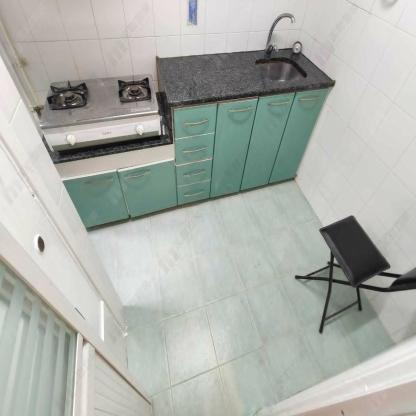Cupboard: (67, 87, 330, 228)
Faucet: (263, 0, 298, 56)
Sink: (259, 55, 307, 83)
Stove: (40, 72, 162, 151)
